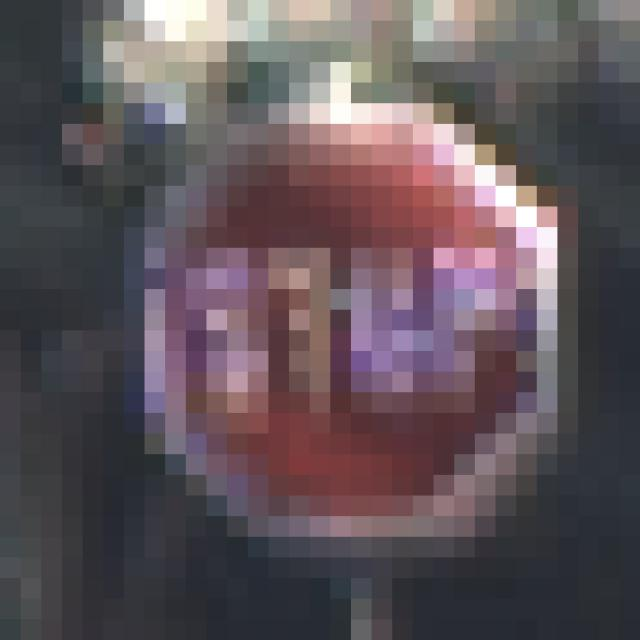STOP: (125, 104, 538, 517)
